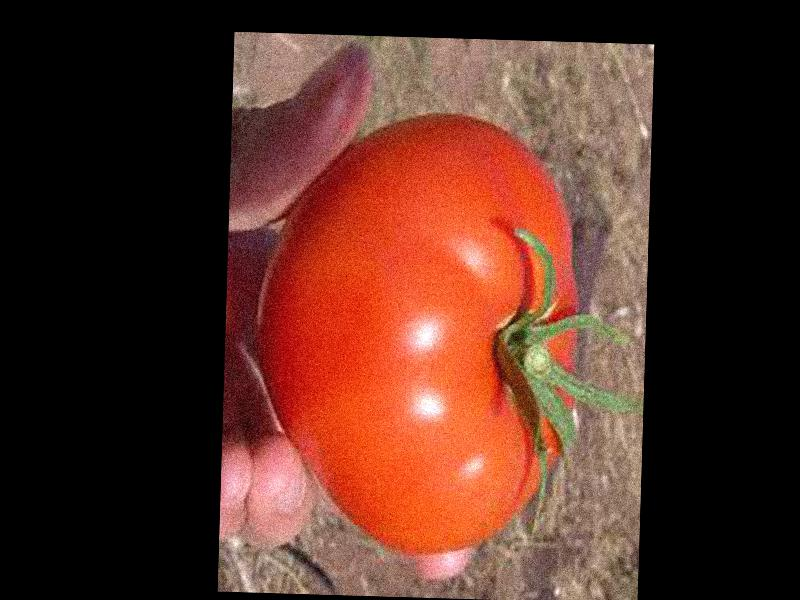Tomato: (254, 108, 584, 557)
